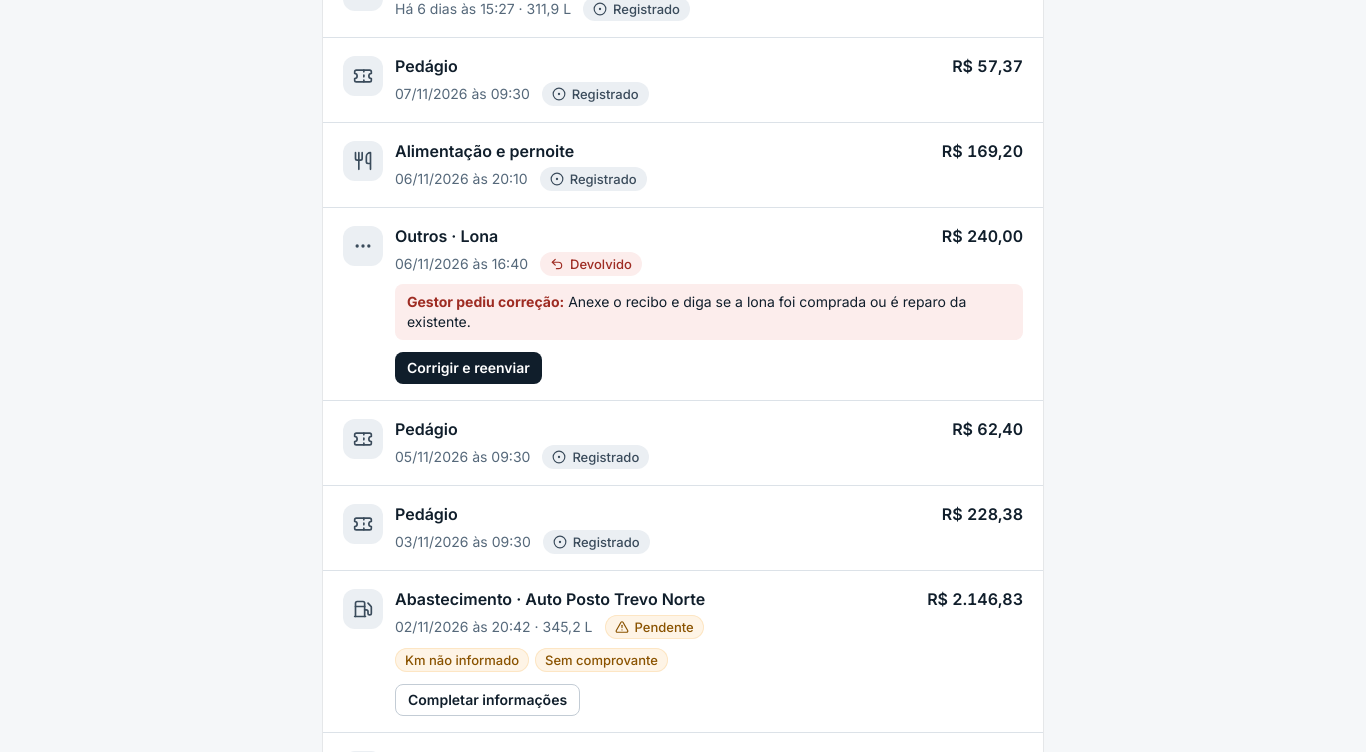
Test case: Motorista › corrige um lançamento devolvido e ele volta para conferência
Later steps or results of the test are not shown.
(page scrolled)
Click the button "Corrigir e reenviar" at {"x": 468, "y": 368}, box [395, 352, 542, 384]
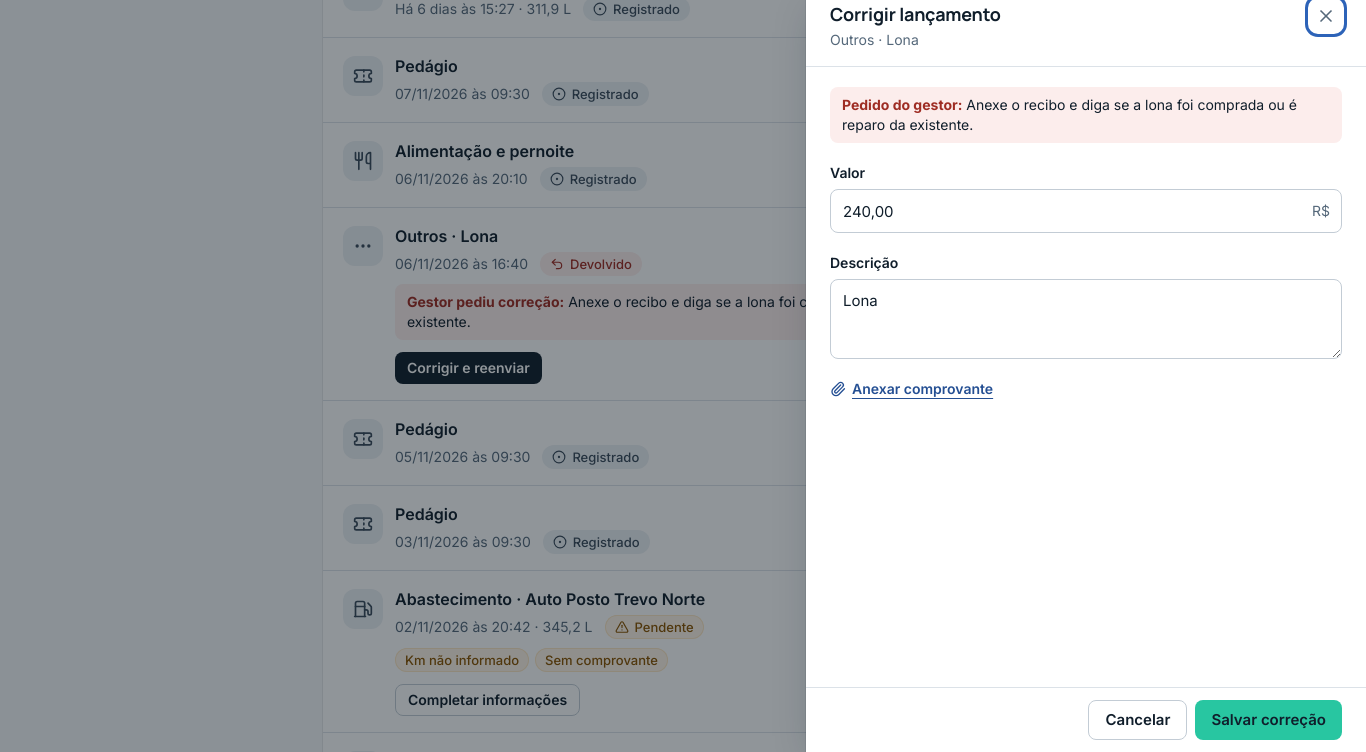
Expected: the text "Pedido do gestor:" is shown, [842, 96, 962, 113]
